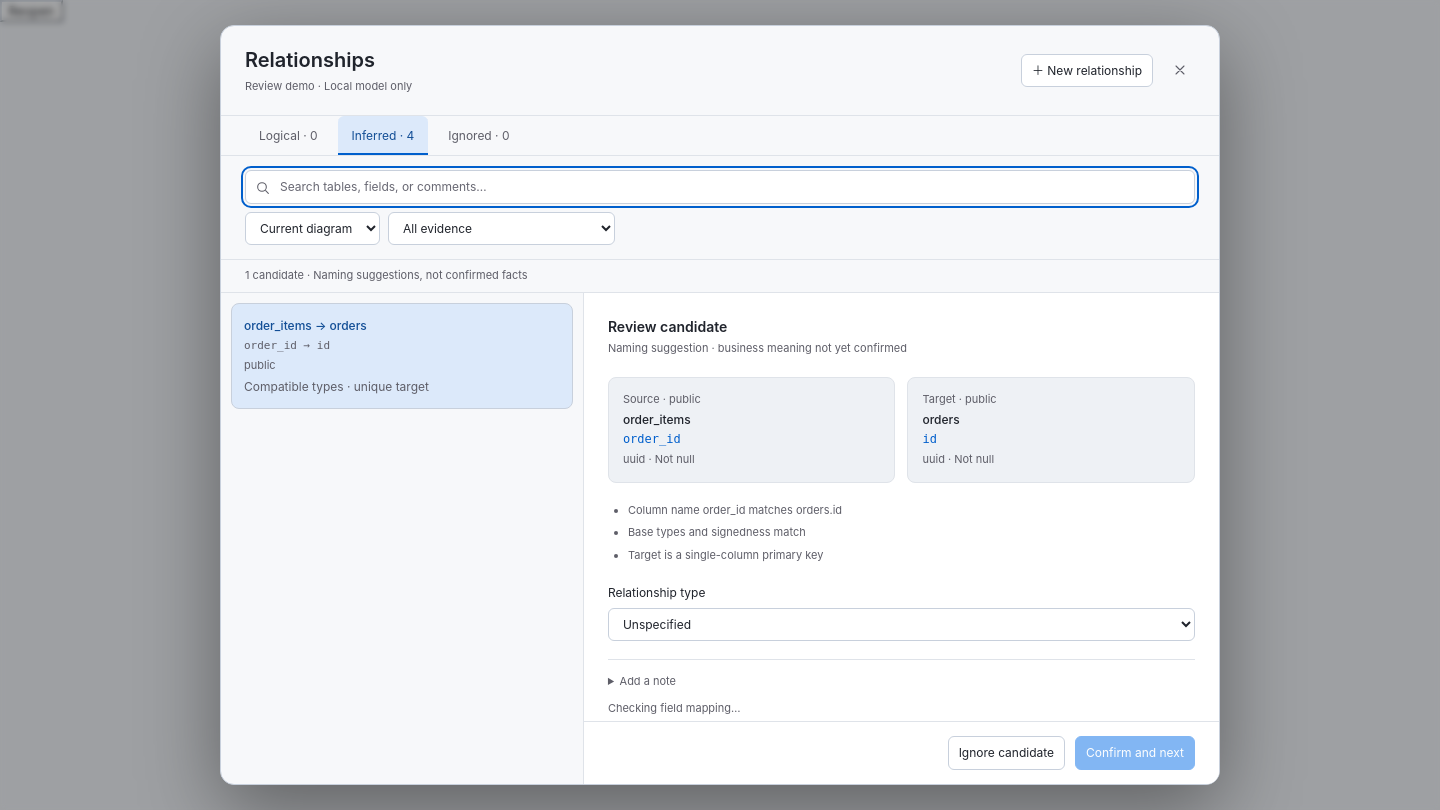
Test case: Inferred relationship review › ignores stale validation results after switching candidates
The width and height of the screenshot is (1440, 810).
Select "Entire database" in the dropdown named "Candidate scope". click: (312, 228)
box: [245,212,380,245]
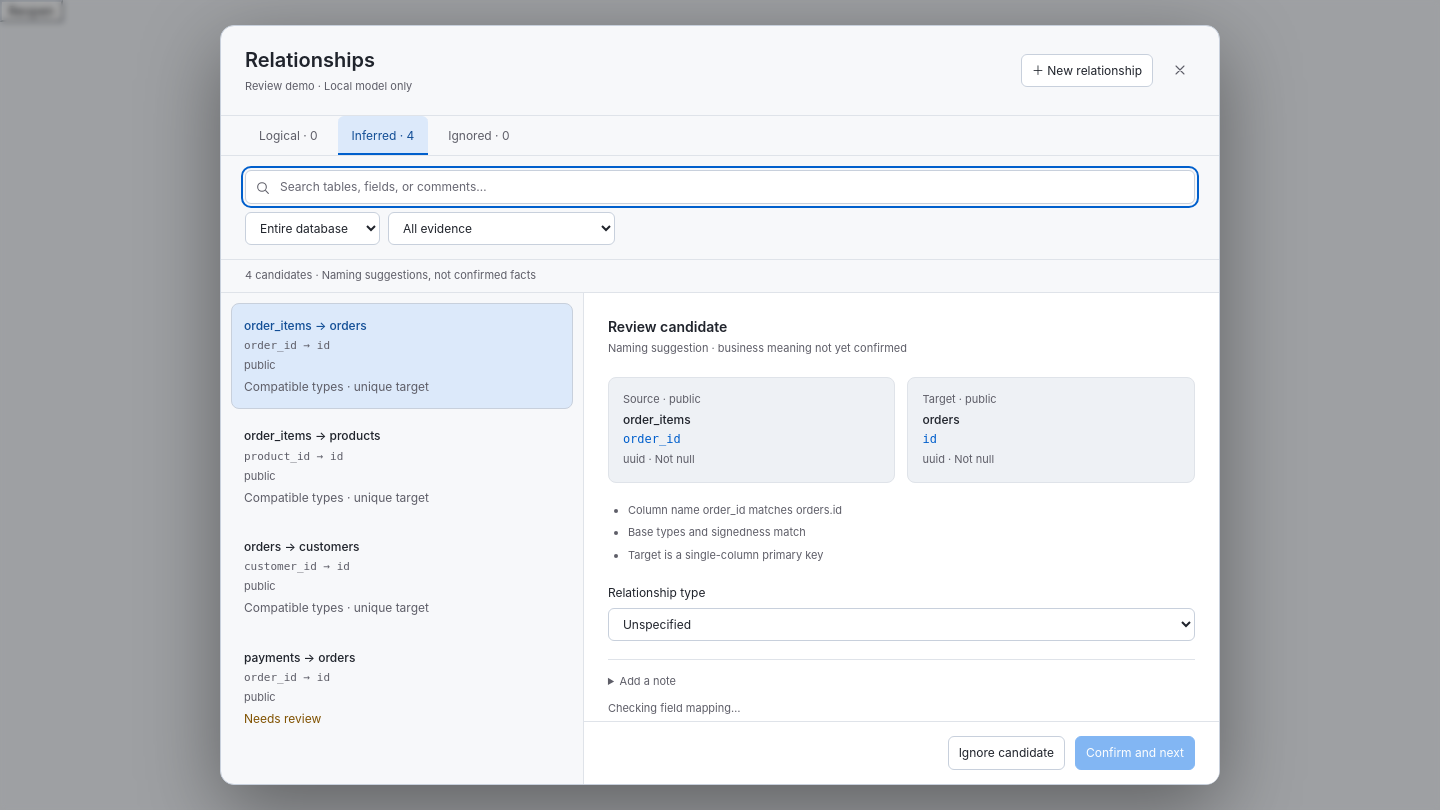
Click the button that starts with "order_items → products". click: (312, 436)
box: [231,413,573,520]
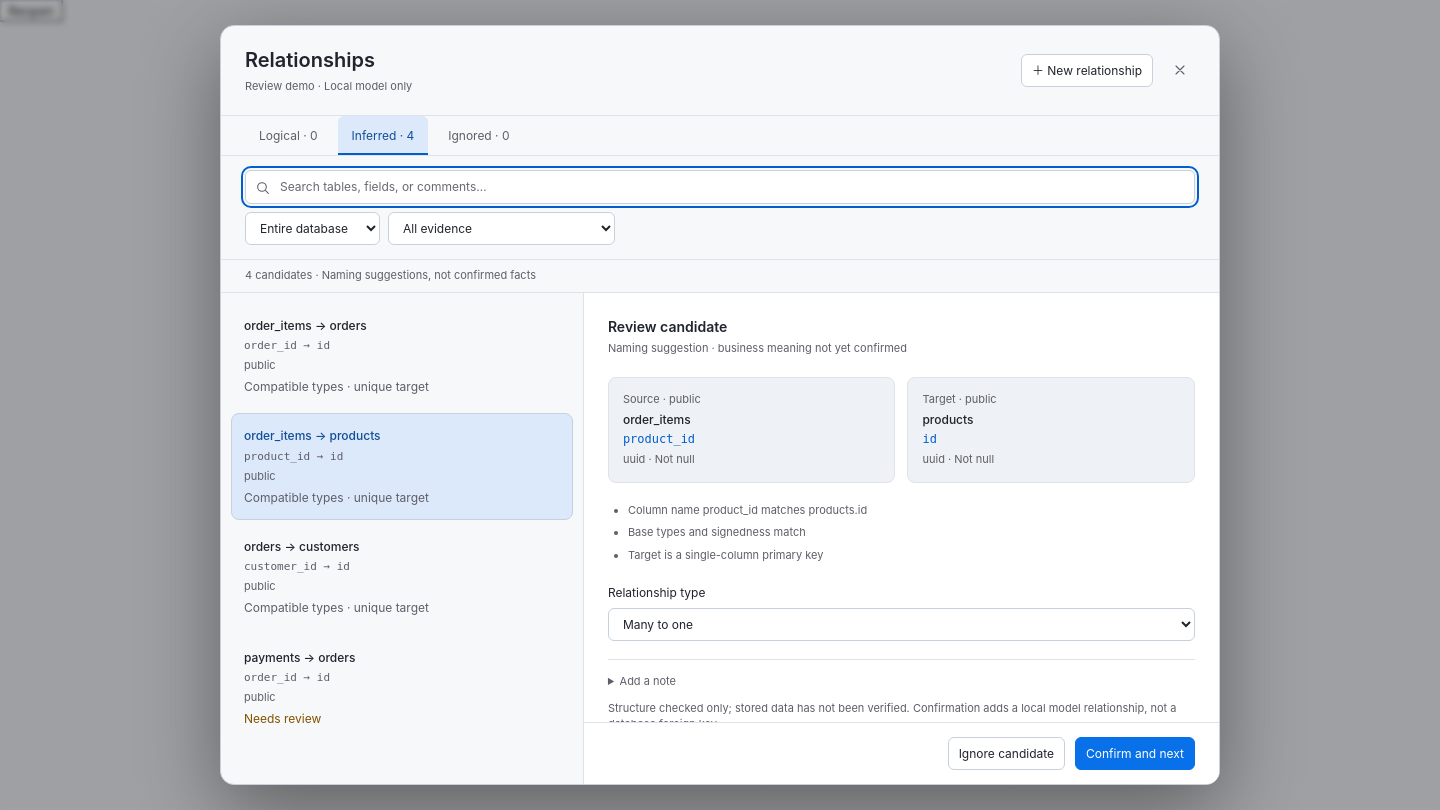
Check: the button "Confirm and next" is enabled, box [1075,737,1195,770]
